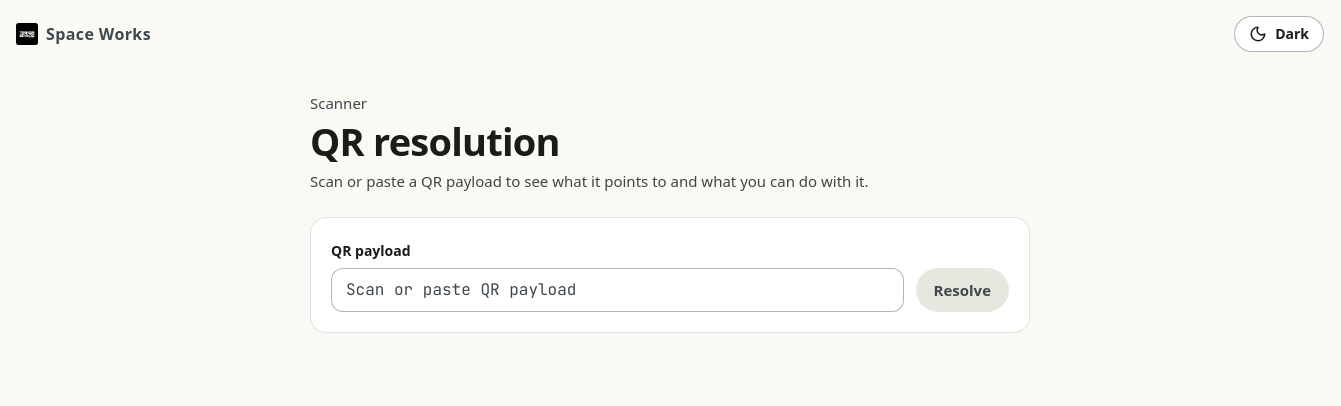
ScannerPage › reads a 403 as an unrecognised code, not a permission error
This screenshot has width=1341, height=406.
Type " SW:abc " into the field labelled "QR payload" at (617, 290), box [331,268,904,312]
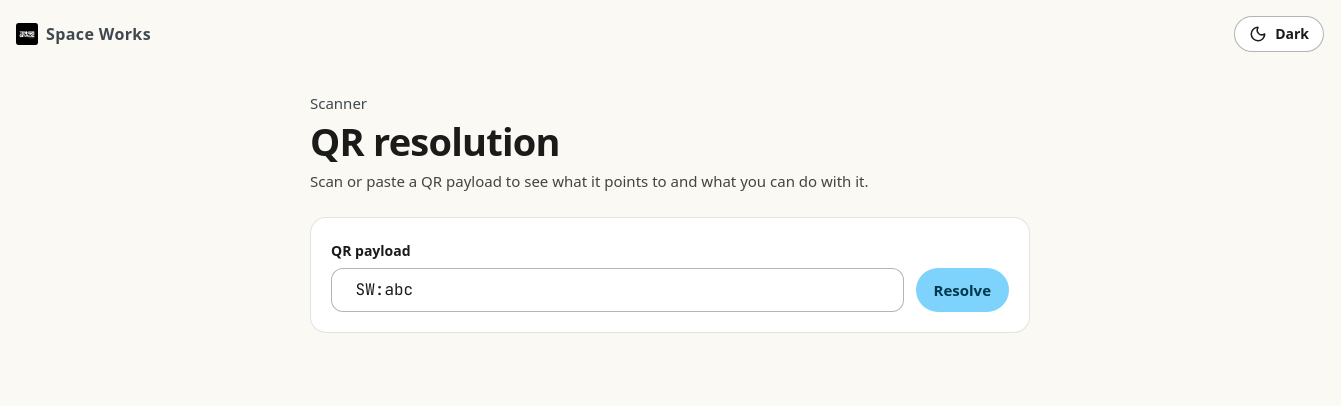
Click the 2nd button named "Resolve" at (962, 290), box [916,268,1009,312]
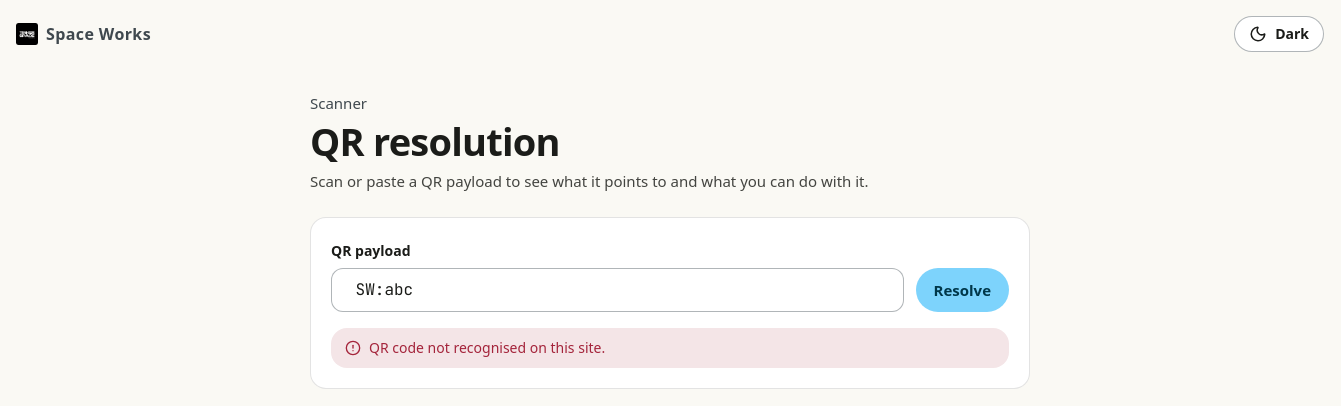
Expected: the message shows "QR code not recognised on this site", [369,338,605,357]
